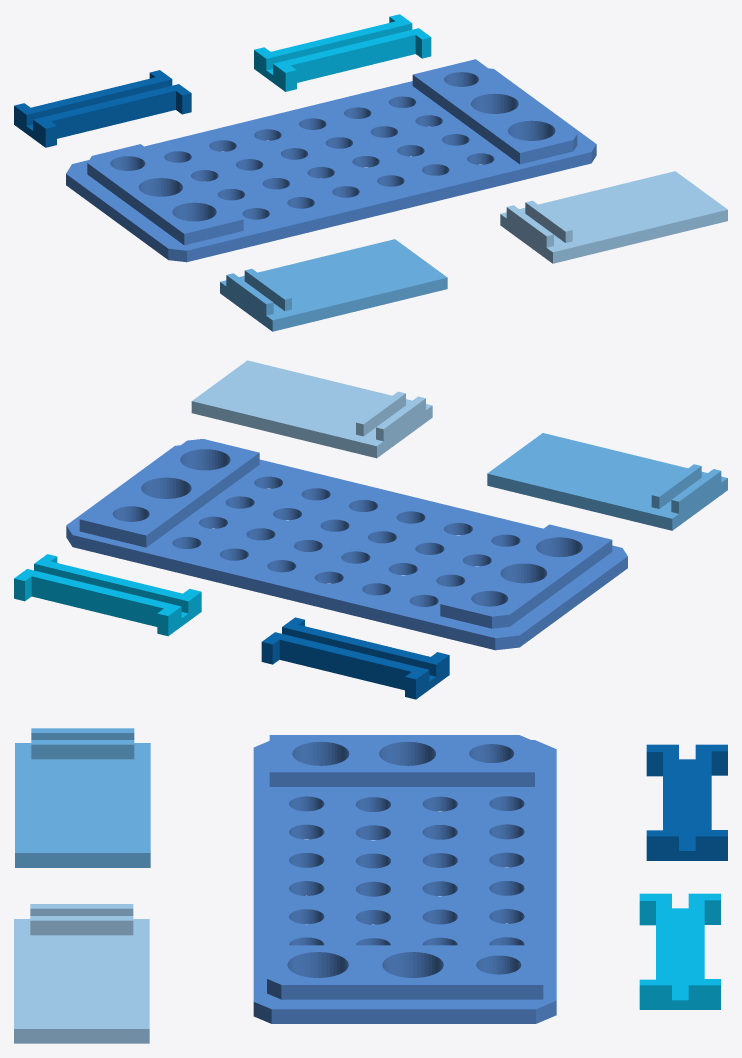
Rendered from 3DPX-022833.glb.
3 views of the same model, one above another, from view 1: azimuth 30°, elevation 25°; view 2: azimuth 150°, elevation 25°; view 3: azimuth 270°, elevation 25° (orthographic). The views are drawn at different scales.
Parts seen in each view (by area): view 1: lab_rack-repaired-nih3d.001, lab_rack-repaired-nih3d, lab_rack-repaired-nih3d.004, lab_rack-repaired-nih3d.002, lab_rack-repaired-nih3d.003; view 2: lab_rack-repaired-nih3d.001, lab_rack-repaired-nih3d, lab_rack-repaired-nih3d.004, lab_rack-repaired-nih3d.003, lab_rack-repaired-nih3d.002; view 3: lab_rack-repaired-nih3d.001, lab_rack-repaired-nih3d, lab_rack-repaired-nih3d.004, lab_rack-repaired-nih3d.003, lab_rack-repaired-nih3d.002.
Boxes of the visible parts, x1=… form: lab_rack-repaired-nih3d.001: x1=66, y1=59, x2=596, y2=262; lab_rack-repaired-nih3d: x1=500, y1=171, x2=727, y2=263; lab_rack-repaired-nih3d.004: x1=220, y1=239, x2=447, y2=331; lab_rack-repaired-nih3d.002: x1=254, y1=14, x2=431, y2=91; lab_rack-repaired-nih3d.003: x1=14, y1=70, x2=191, y2=147; lab_rack-repaired-nih3d.001: x1=66, y1=439, x2=627, y2=650; lab_rack-repaired-nih3d: x1=191, y1=360, x2=432, y2=458; lab_rack-repaired-nih3d.004: x1=487, y1=433, x2=727, y2=530; lab_rack-repaired-nih3d.003: x1=261, y1=617, x2=449, y2=699; lab_rack-repaired-nih3d.002: x1=14, y1=554, x2=201, y2=636; lab_rack-repaired-nih3d.001: x1=253, y1=735, x2=556, y2=1023; lab_rack-repaired-nih3d: x1=14, y1=904, x2=149, y2=1043; lab_rack-repaired-nih3d.004: x1=15, y1=728, x2=150, y2=867; lab_rack-repaired-nih3d.003: x1=646, y1=744, x2=727, y2=860; lab_rack-repaired-nih3d.002: x1=639, y1=893, x2=720, y2=1009.
Size of the model in its own units: 126 by 6 by 132.
